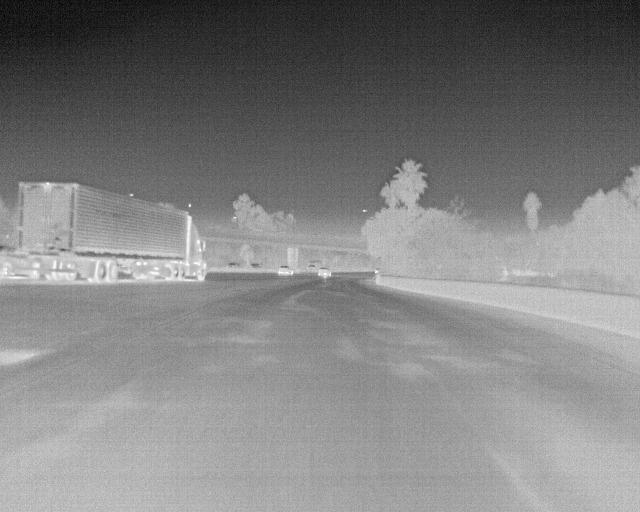car: (0, 246, 40, 282), (316, 267, 336, 280), (277, 264, 293, 277)
